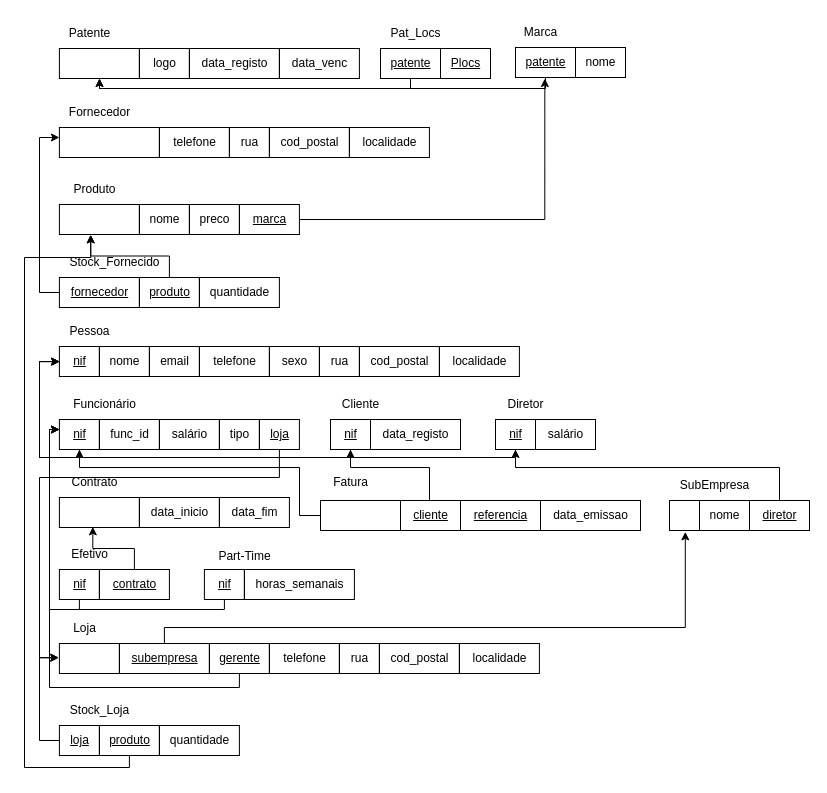
This 827x793 diagram has some shape labels left out. Each missing label, with the centre of its shape:
funcionario: the point at 360,515
id: the point at 684,515
id_contrato: the point at 98,512
id_fornecedor: the point at 108,142
id_loja: the point at 88,658
id_patente: the point at 98,63
id_produto: the point at 98,219
